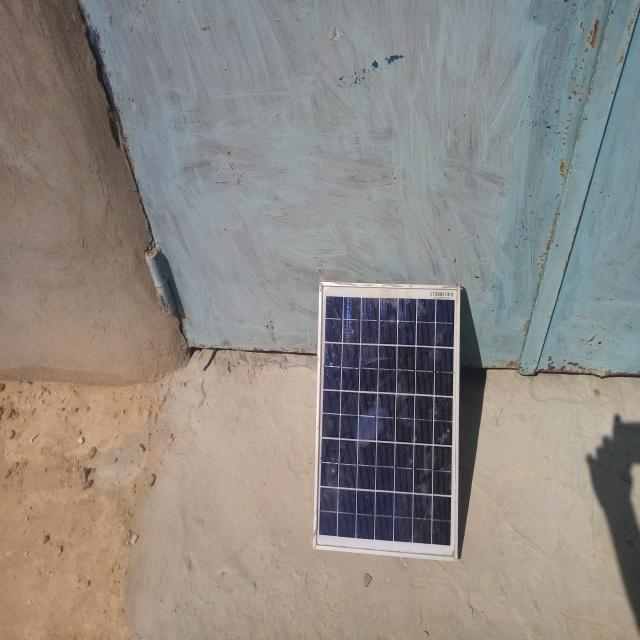faulty: (315, 285, 459, 561)
